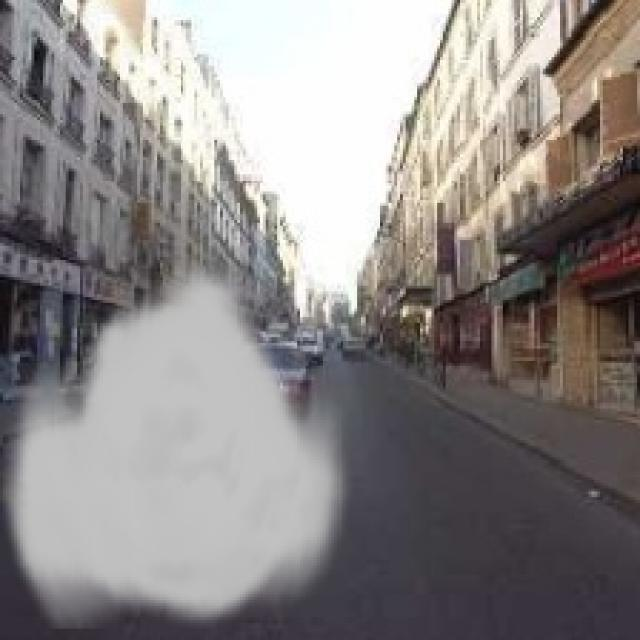Smoke: (0, 260, 357, 629)
